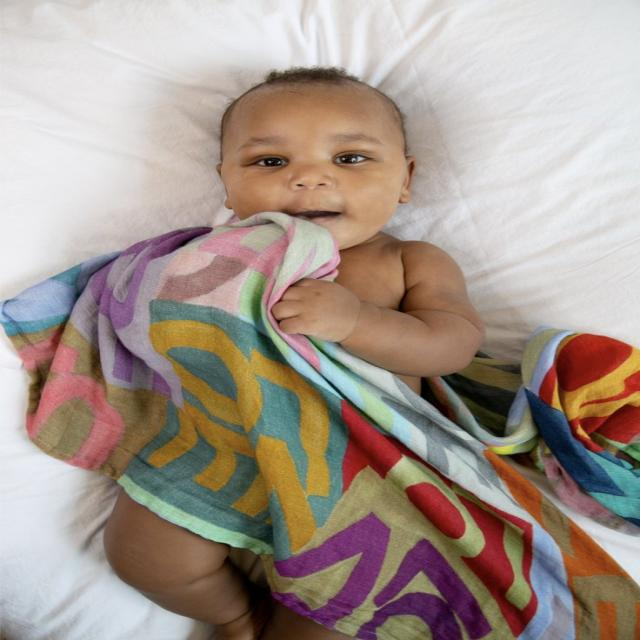blanket: (4, 212, 638, 640)
